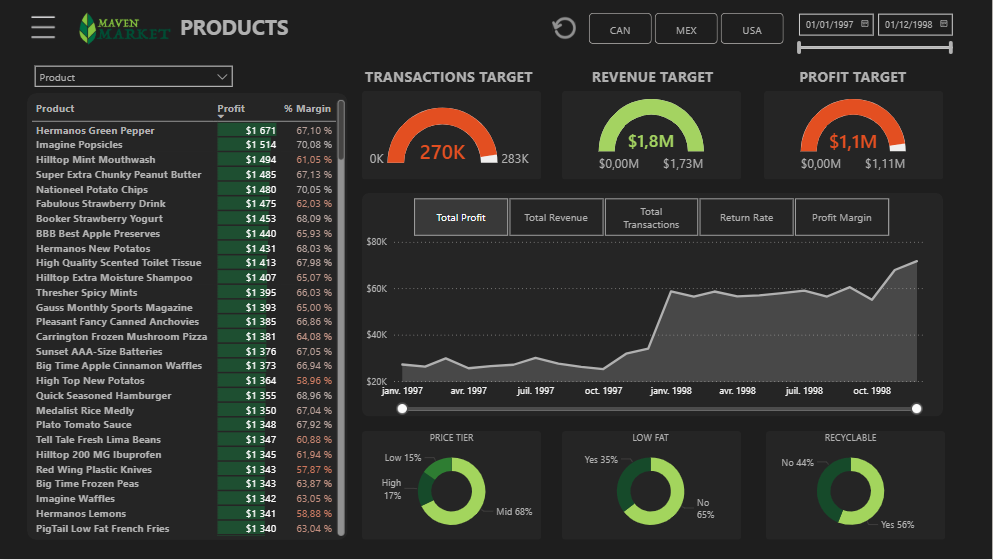

This screenshot's page, from the dashboard's own definition file:
{"tool":"powerbi","page":{"name":"PRODUCTS","canvas":[1280,720],"ordinal":3},"visuals":[{"type":"image","box":[95.3,5.3,133.2,62.6],"z":0},{"type":"advancedSlicerVisual","fields":{"Values":["Stores.store_country"]},"box":[756,11.4,263.4,50.9],"z":0,"group":"g2"},{"type":"group","id":"g1","title":"visuels jauges","box":[468,123.1,745.9,108.6],"z":0,"group":"g3"},{"type":"gauge","fields":{"Y":["Measure Table.Total Transactions"],"MaxValue":["Measure Table.Transactions Target"]},"box":[468,123.1,224.9,108.6],"z":0,"group":"g1"},{"type":"shape","box":[468.2,555.3,231.1,140.3],"z":0,"group":"g4"},{"type":"group","id":"g2","title":"Filters","box":[709.5,8,533.5,67],"z":1000},{"type":"slicer","fields":{"Values":["Calendar.Start of Month"]},"box":[1019,8,224,67],"z":1000,"group":"g2"},{"type":"textbox","box":[461.5,81.6,236.8,36],"z":1000,"group":"g3"},{"type":"gauge","fields":{"Y":["Measure Table.Total Revenue"],"MaxValue":["Measure Table.Revenue Target"]},"box":[728.5,123.1,224.9,108.6],"z":1000,"group":"g1"},{"type":"shape","box":[725.9,555.3,231.1,140.3],"z":1000,"group":"g4"},{"type":"textbox","box":[228,12,186,50],"z":2000},{"type":"actionButton","box":[709.5,16.7,38.6,39.5],"z":2000,"group":"g2"},{"type":"shape","box":[468,117.6,230.9,114.2],"z":2000,"group":"g3"},{"type":"gauge","fields":{"Y":["Measure Table.Total Profit"],"MaxValue":["Measure Table.Profit Target"]},"box":[989,123.1,224.9,108.6],"z":2000,"group":"g1"},{"type":"shape","box":[988.4,555.3,231.1,140.3],"z":2000,"group":"g4"},{"type":"group","id":"g3","title":"Jauges","box":[461.5,81.4,758,150.3],"z":3000},{"type":"shape","box":[726,117.6,230.9,114.2],"z":3000,"group":"g3"},{"type":"donutChart","title":"LOW FAT","fields":{"Category":["Products.low_fat"],"Y":["Measure Table.Total Transactions"]},"box":[725.3,555.3,231.1,139.1],"z":3000,"group":"g4"},{"type":"slicer","fields":{"Values":["Products selection.Products selection"]},"box":[36.3,75,274.6,48.4],"z":4000},{"type":"shape","box":[986,117.6,230.9,114.2],"z":4000,"group":"g3"},{"type":"donutChart","title":"PRICE TIER","fields":{"Category":["Products.Price_Tier"],"Y":["Measure Table.Total Transactions"]},"box":[468.2,555.3,231.1,139.1],"z":4000,"group":"g4"},{"type":"textbox","box":[982.7,81.4,236.8,36],"z":5000,"group":"g3"},{"type":"pivotTable","fields":{"Rows":["Products.product_name"],"Values":["Measure Table.Total Profit","Measure Table.Profit Margin"]},"box":[37.5,123.4,412.6,572.2],"z":5000},{"type":"donutChart","title":"RECYCLABLE","fields":{"Category":["Products.recyclable"],"Y":["Measure Table.Total Transactions"]},"box":[982.4,555.3,231.1,139.1],"z":5000,"group":"g4"},{"type":"textbox","box":[728.1,82,228.7,36],"z":6000,"group":"g3"},{"type":"shape","box":[36.5,120.1,413.4,576.3],"z":6000},{"type":"areaChart","fields":{"Y":["Measure Table.Total Profit"],"Category":["Calendar.Calendar hierarchy.Start of Month","Calendar.Calendar hierarchy.Start of Week"]},"box":[468.2,297.4,745.3,239.5],"z":7000},{"type":"slicer","fields":{"Values":["Metric selection.Metric selection"]},"box":[509.3,249,661.8,61.7],"z":8000},{"type":"shape","box":[468.2,249,748.9,287.9],"z":9000},{"type":"group","id":"g4","title":"Donuts","box":[468.2,555.3,751.3,140.3],"z":10000},{"type":"actionButton","title":"Show Menu","box":[37,16,42,39],"z":13000}]}

Visuals, with their boxes in screenshot pixels (x1, y1, x2, y2), scaled from the page's 1280x720 canvas onto the 994x560 screenshot:
image: 74 4 177 53
advancedSlicerVisual - Stores.store_country: 587 9 792 48
"visuels jauges" group: 363 96 943 180
gauge - Measure Table.Total Transactions x Measure Table.Transactions Target: 363 96 538 180
shape: 364 432 543 541
"Filters" group: 551 6 965 58
slicer - Calendar.Start of Month: 791 6 965 58
textbox: 358 63 542 91
gauge - Measure Table.Total Revenue x Measure Table.Revenue Target: 566 96 740 180
shape: 564 432 743 541
textbox: 177 9 321 48
actionButton: 551 13 581 44
shape: 363 91 543 180
gauge - Measure Table.Total Profit x Measure Table.Profit Target: 768 96 943 180
shape: 768 432 947 541
"Jauges" group: 358 63 947 180
shape: 564 91 743 180
"LOW FAT" donutChart: 563 432 743 540
slicer - Products selection.Products selection: 28 58 241 96
shape: 766 91 945 180
"PRICE TIER" donutChart: 364 432 543 540
textbox: 763 63 947 91
pivotTable - Products.product_name x Measure Table.Total Profit: 29 96 350 541
"RECYCLABLE" donutChart: 763 432 942 540
textbox: 565 64 743 92
shape: 28 93 349 542
areaChart - Measure Table.Total Profit x Calendar.Calendar hierarchy.Start of Month: 364 231 942 418
slicer - Metric selection.Metric selection: 396 194 909 242
shape: 364 194 945 418
"Donuts" group: 364 432 947 541
"Show Menu" actionButton: 29 12 61 43
